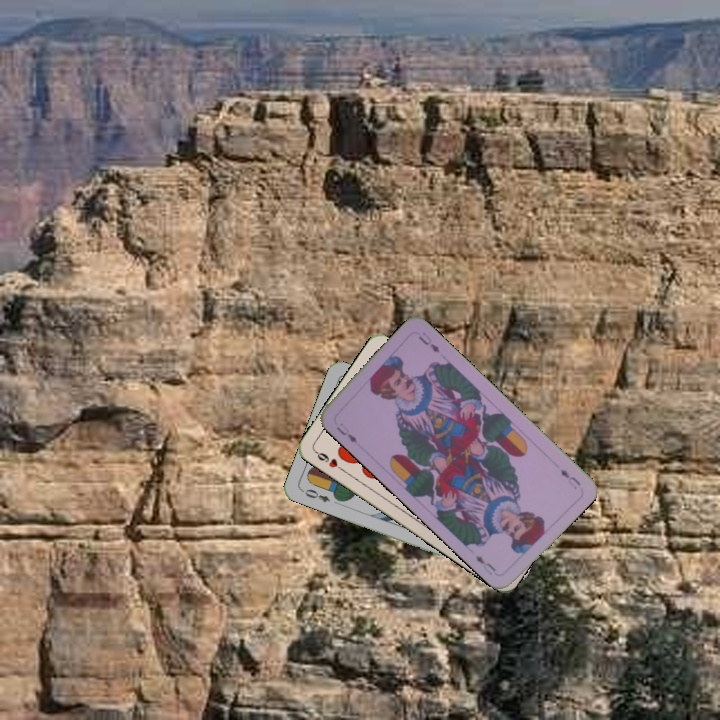EO: (298, 485, 333, 505)
EU: (332, 419, 360, 446), (556, 465, 584, 492)
H9: (311, 447, 347, 474)
